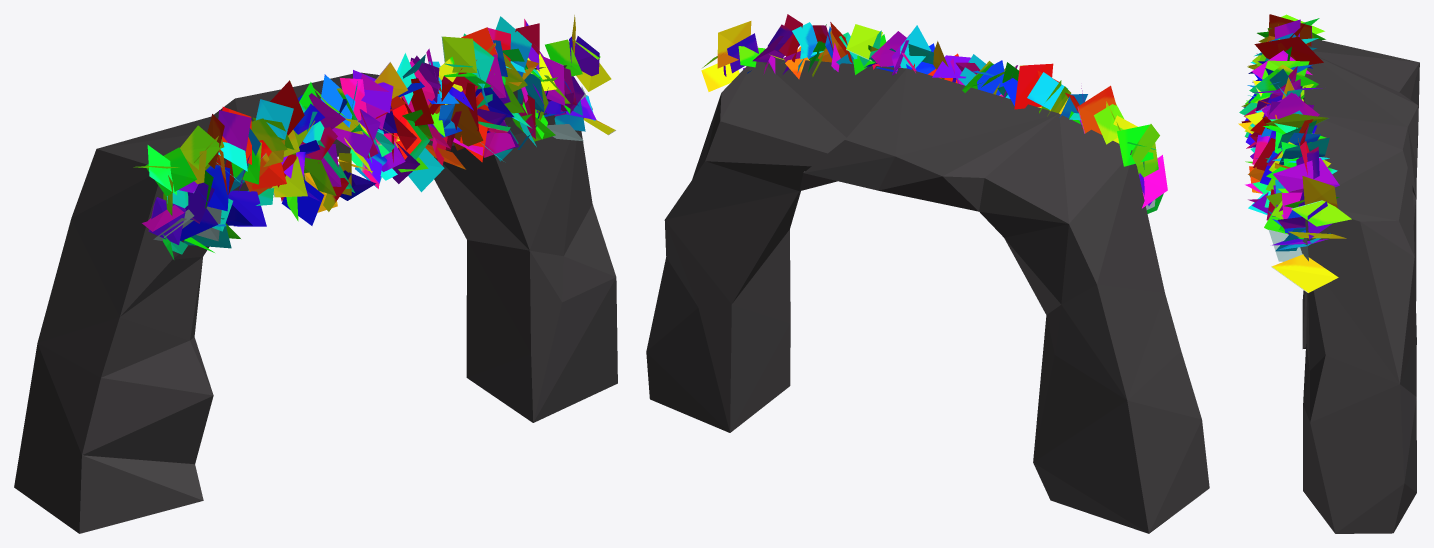
Rendered from mesh_endLevel.fbx.
The picture shows the model from 3 angles, left to right: view 1: azimuth 30°, elevation 25°; view 2: azimuth 150°, elevation 25°; view 3: azimuth 270°, elevation 25°; orthographic projection. The views are drawn at different scales.
Parts seen in each view (by area): view 1: Cube; view 2: Cube; view 3: Cube.
Boxes of the visible parts, x1,y1,x2,y2 form: Cube: (14,15,617,533); Cube: (646,14,1209,533); Cube: (1238,14,1419,533).
Bounding box in the file's own units: 9.88 × 6.99 × 3.23.
